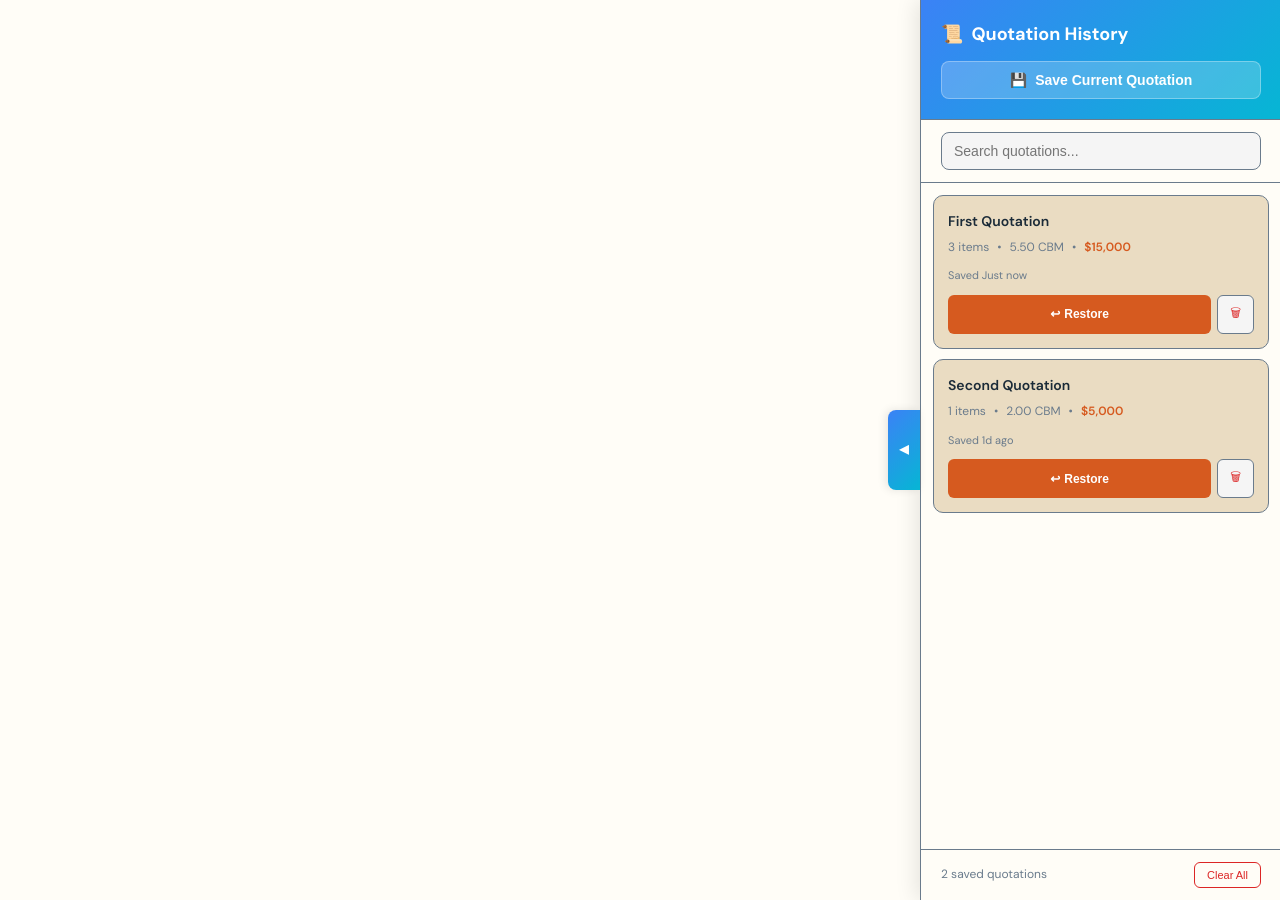
Test: HistoryPanel › save functionality › should open save modal when save button clicked
The image size is (1280, 900).
Click the button "💾 Save Current Quotation" at (1101, 80), box top-left (941, 61), bottom-right (1261, 99)
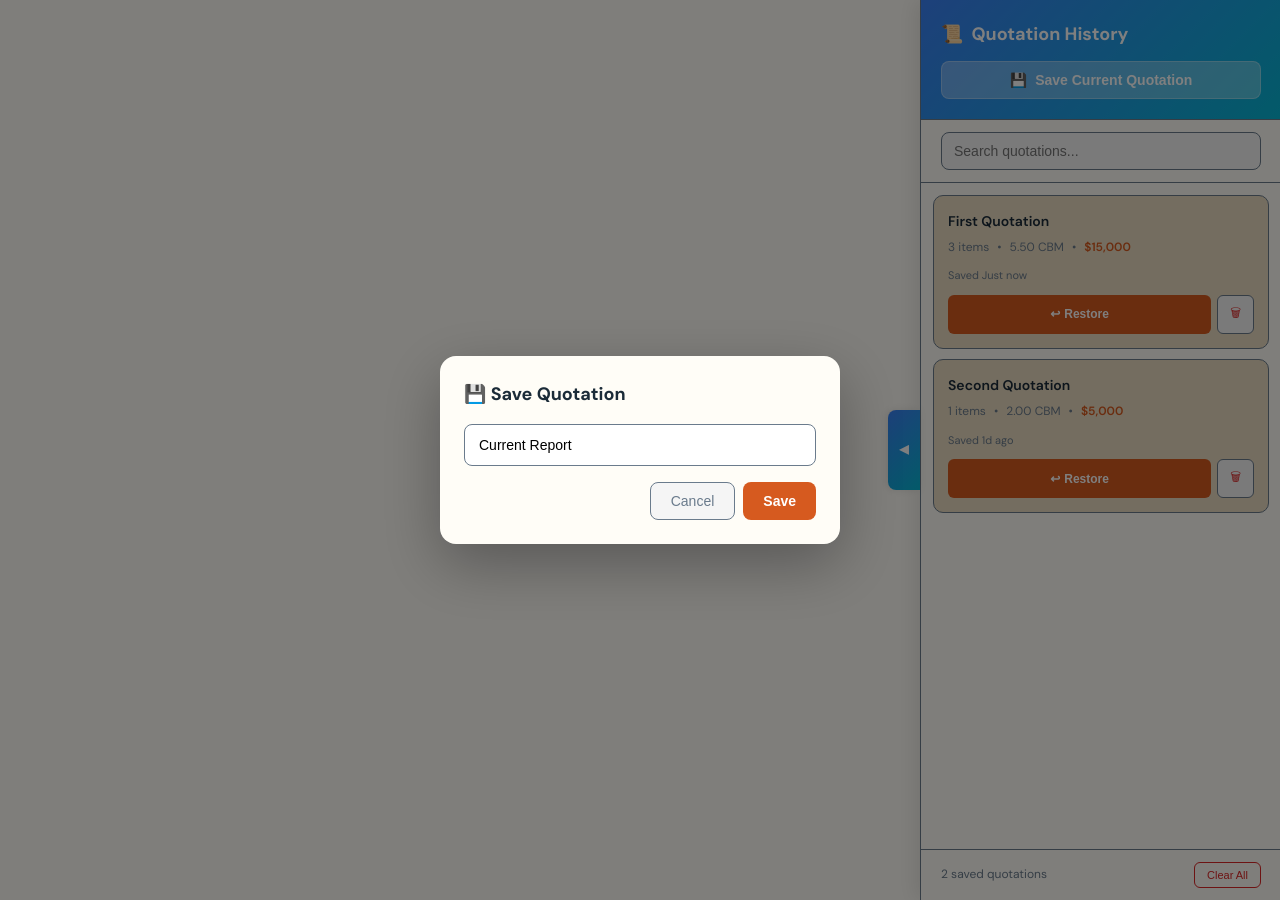
Expected: the field with placeholder "Enter a name for this quotation..." is shown, top-left (464, 424), bottom-right (816, 466)
